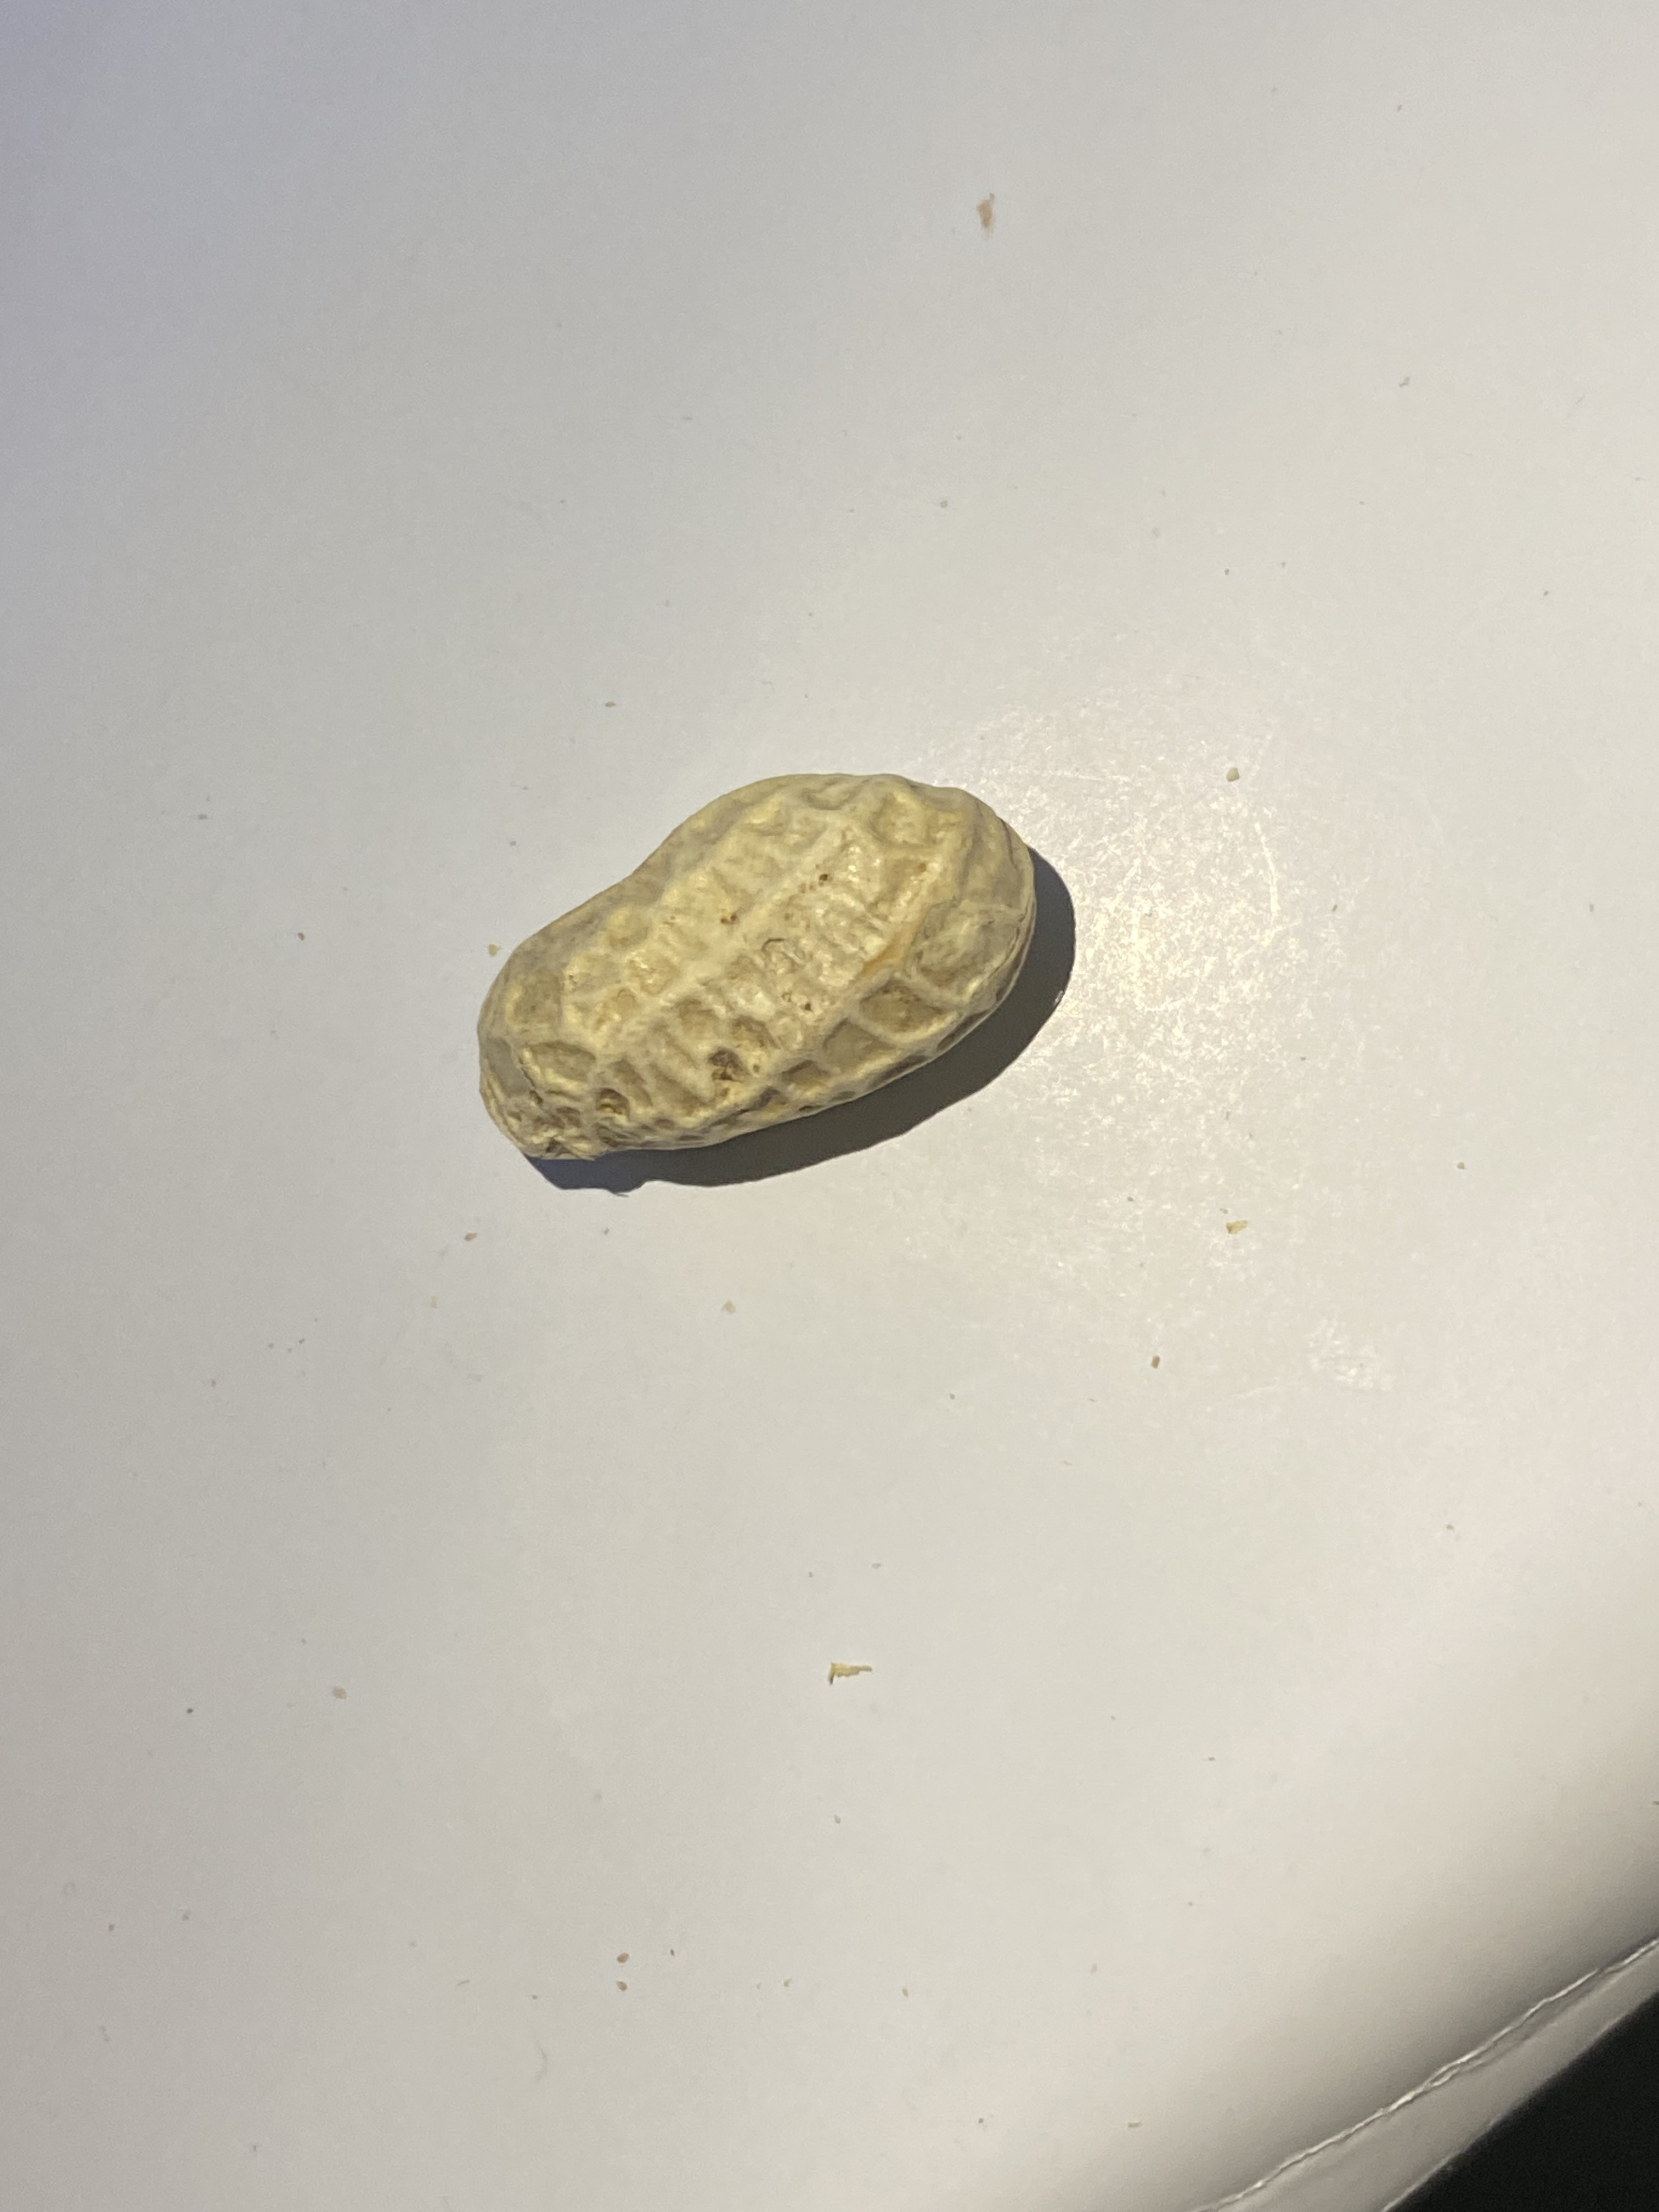kacang1: (413, 738, 1101, 1170)
